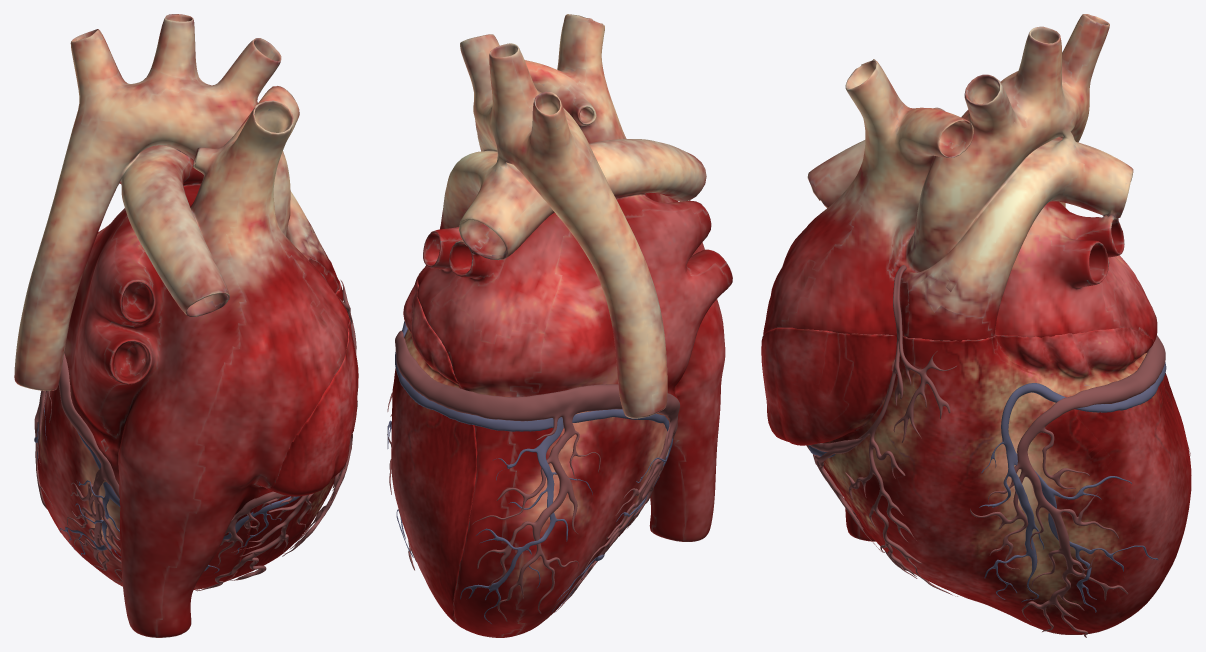
The model's file is heart_Realistic.glb.
3 views of the same model, side by side, from view 1: azimuth 30°, elevation 25°; view 2: azimuth 150°, elevation 25°; view 3: azimuth 270°, elevation 25° (orthographic). The views are drawn at different scales.
Parts seen in each view (by area): view 1: PolySurface1, PolySurface2, HeartExterorVains2GEO, HeartExterorVains1GEO; view 2: PolySurface1, PolySurface2, HeartExterorVains2GEO, HeartExterorVains1GEO; view 3: PolySurface2, PolySurface1, HeartExterorVains2GEO, HeartExterorVains1GEO.
Boxes of the visible parts, x1,y1,x2,y2 form: PolySurface1: (14,14,349,637); PolySurface2: (223,279,358,582); HeartExterorVains2GEO: (34,272,357,591); HeartExterorVains1GEO: (34,405,300,573); PolySurface1: (417,14,732,637); PolySurface2: (391,268,477,623); HeartExterorVains2GEO: (387,330,680,621); HeartExterorVains1GEO: (387,321,672,623); PolySurface2: (761,327,1191,634); PolySurface1: (763,14,1157,634); HeartExterorVains2GEO: (806,265,1190,637); HeartExterorVains1GEO: (808,362,1166,612).
Bounding box in the file's own units: 0.2002 × 0.395 × 0.2549.
Materials: 8 (4 with a texture image).
